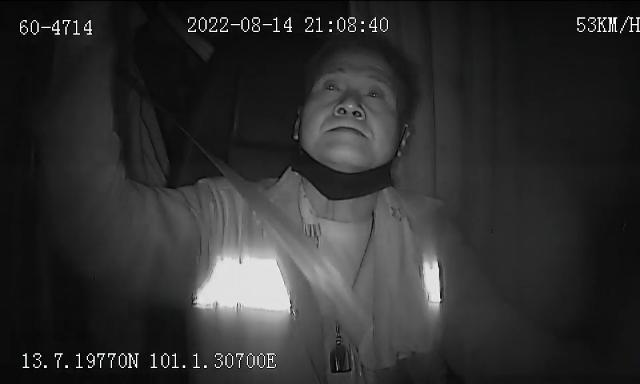SafeDriving: (358, 79, 390, 106), (314, 75, 348, 100)
Seatbelt: (178, 124, 380, 352)
